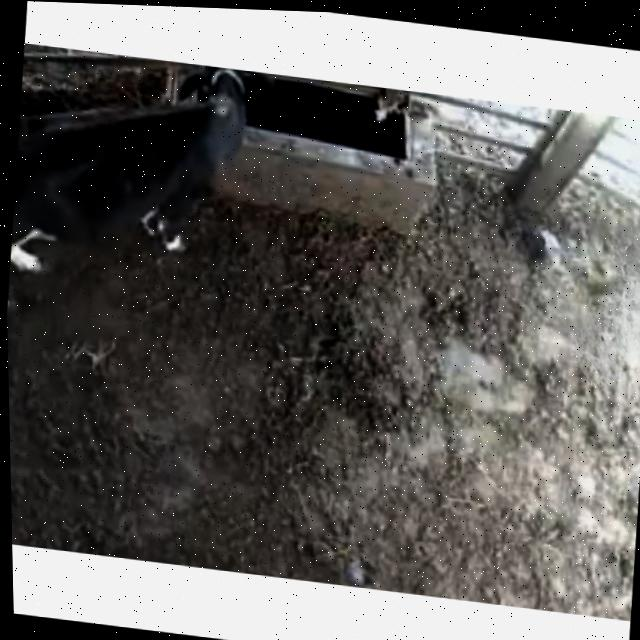drink: (158, 61, 288, 155)
